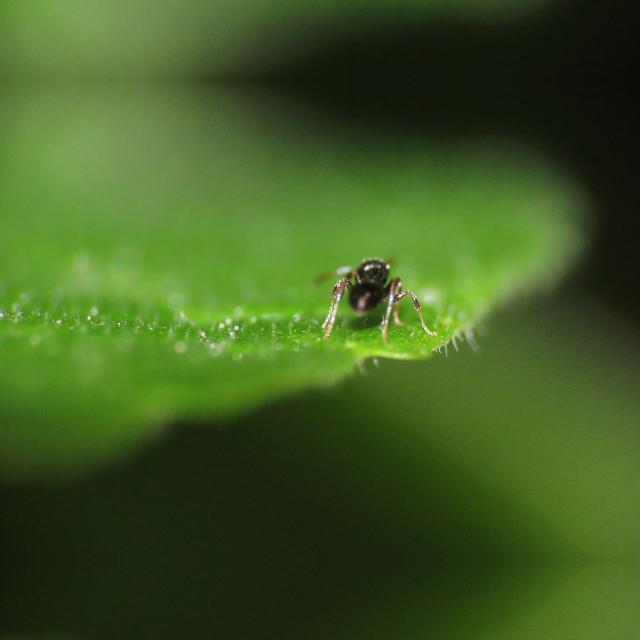Temnothorax: (306, 246, 432, 348)
